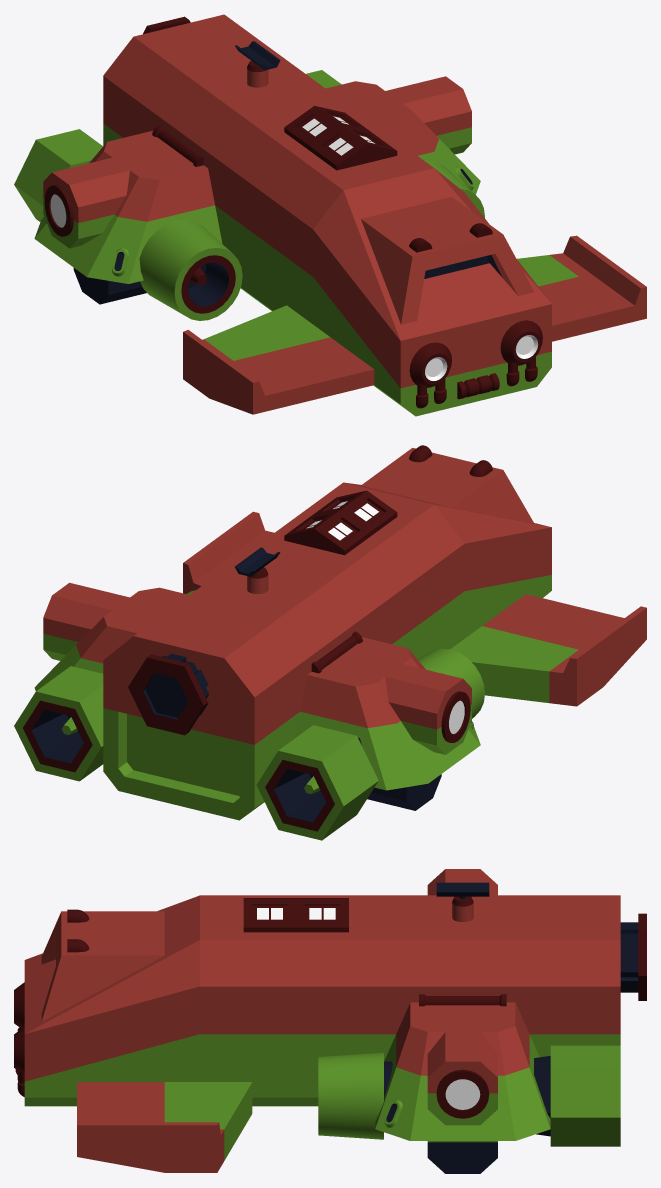
The model's file is GreebusExterior.obj.
The picture shows the model from 3 angles, top to bottom: view 1: azimuth 30°, elevation 25°; view 2: azimuth 150°, elevation 25°; view 3: azimuth 270°, elevation 25°; orthographic projection.
Visible parts, largest first — view 1: mergedBlocks; view 2: mergedBlocks; view 3: mergedBlocks.
Boxes of the visible parts, x1,y1,x2,y2 form: mergedBlocks: (14, 14, 646, 416); mergedBlocks: (14, 445, 646, 840); mergedBlocks: (14, 869, 646, 1173).
Bounding box in the file's own units: 2.64 × 1.29 × 3.61.
